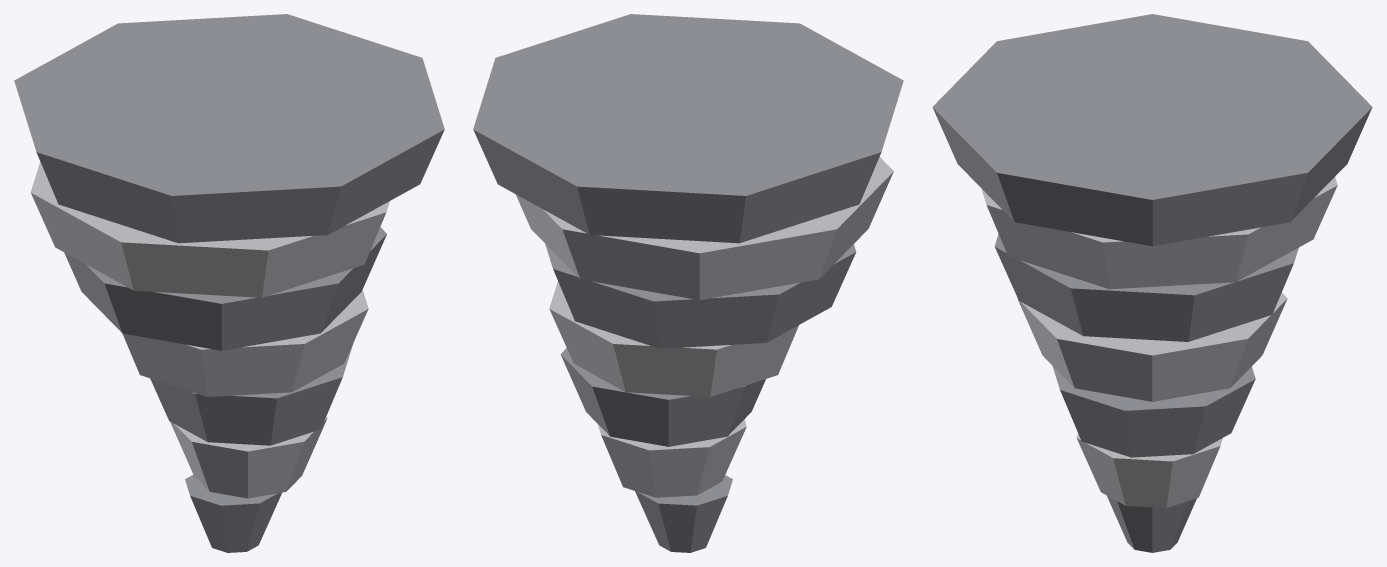
The model's file is Tornado.fbx.
3 renders of one model, left to right at view 1: azimuth 30°, elevation 25°; view 2: azimuth 150°, elevation 25°; view 3: azimuth 270°, elevation 25°, orthographic.
Visible parts, largest first — view 1: Tornado; view 2: Tornado; view 3: Tornado.
Boxes of the visible parts, left/top/right/bottom form: Tornado: left=14, top=14, right=444, bottom=552; Tornado: left=473, top=14, right=903, bottom=552; Tornado: left=932, top=14, right=1372, bottom=552.
Size of the model in its own units: 7 by 7.6 by 7.
Materials: 1 (1 with a texture image).
